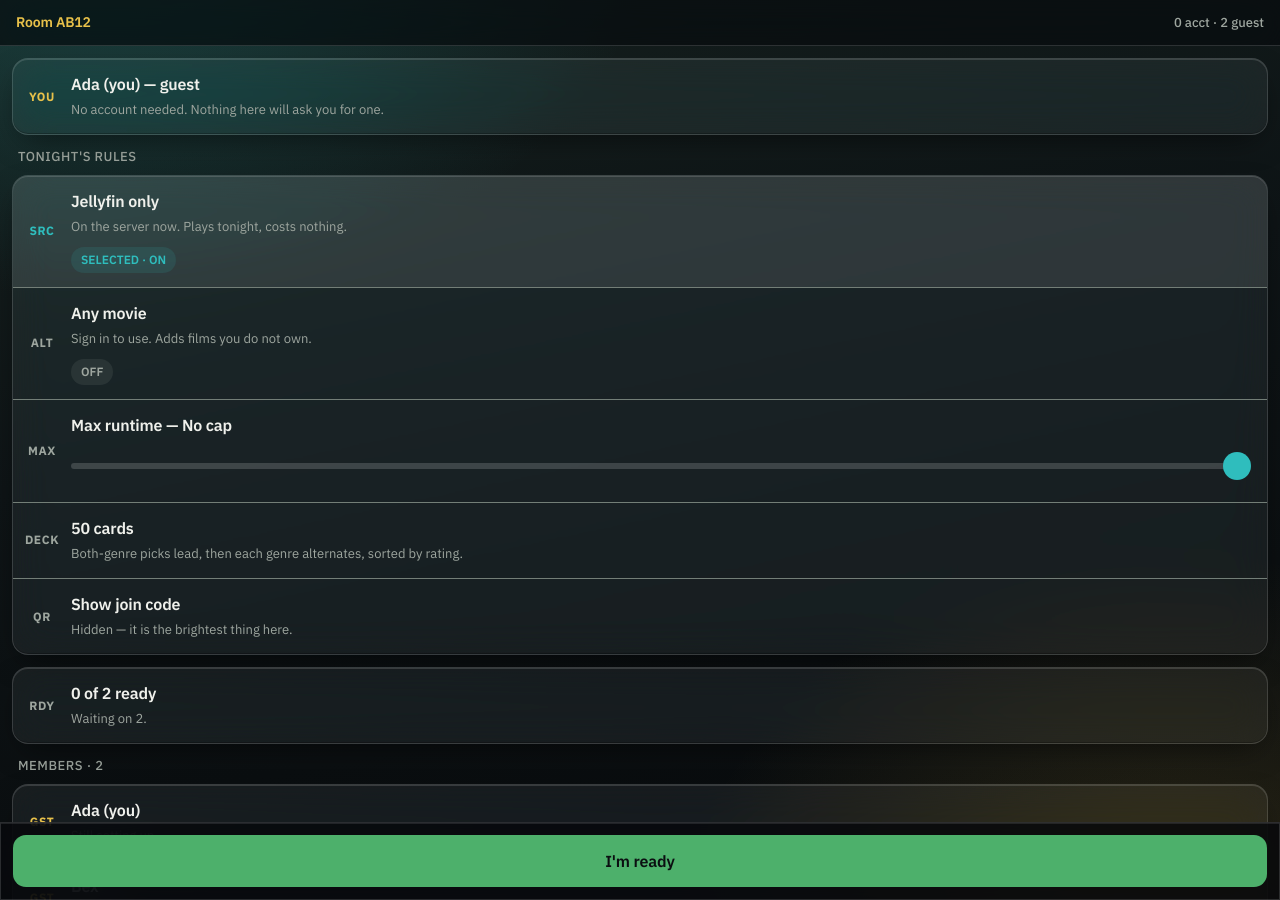
the deck size › is a radio group once opened, not a row of unrelated buttons
Click the button with aria-label "deck size, 50 cards". click: coordinates (42, 540)
box: [13, 503, 1267, 579]
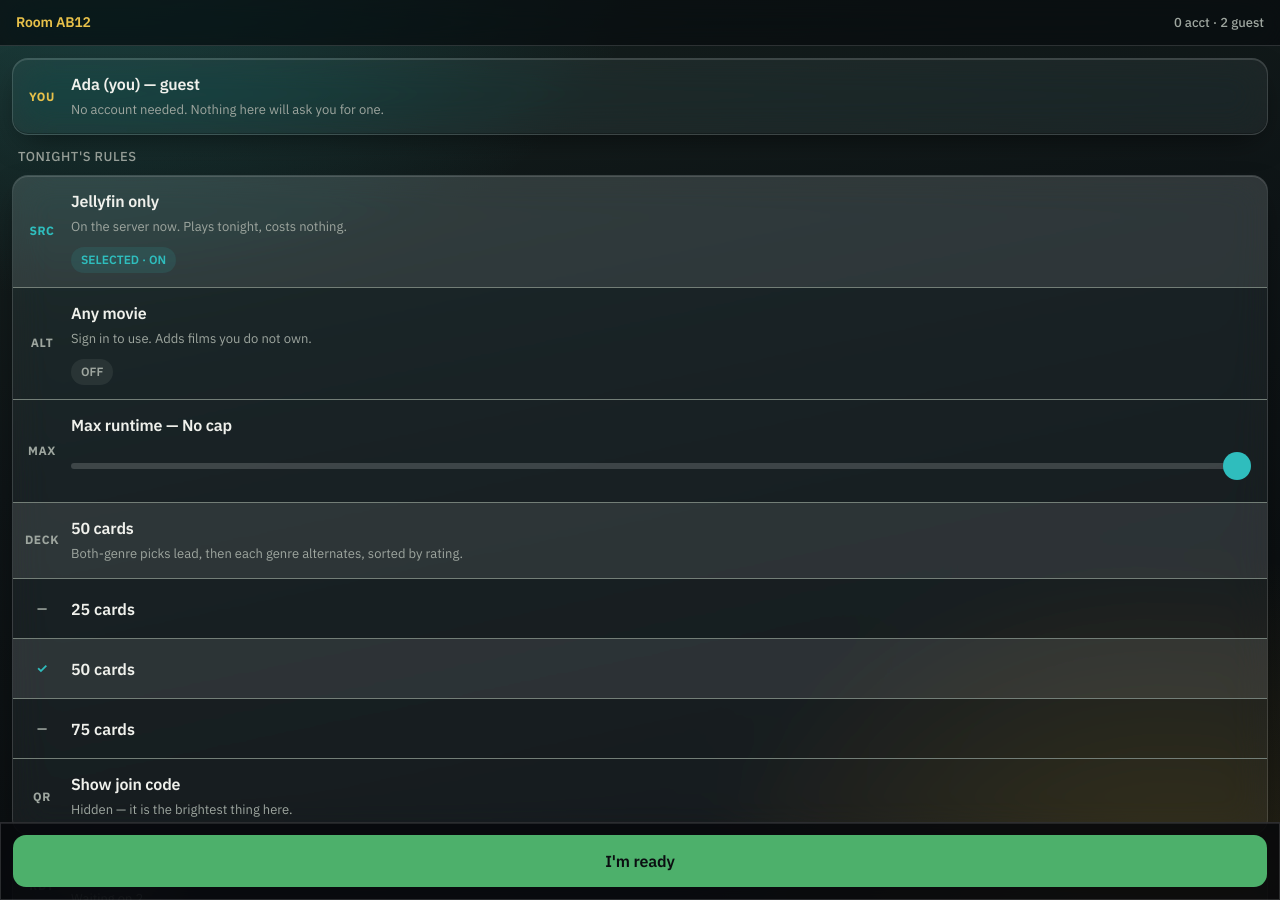
Expected: the number of radio buttons is 3, [13, 579, 1267, 639]; [13, 639, 1267, 699]; [13, 699, 1267, 759]
